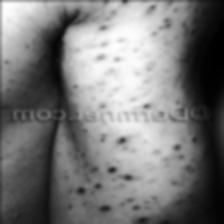Non-Cancerous Skin Condition: (0, 0, 213, 107), (71, 124, 201, 224), (0, 208, 26, 224)
